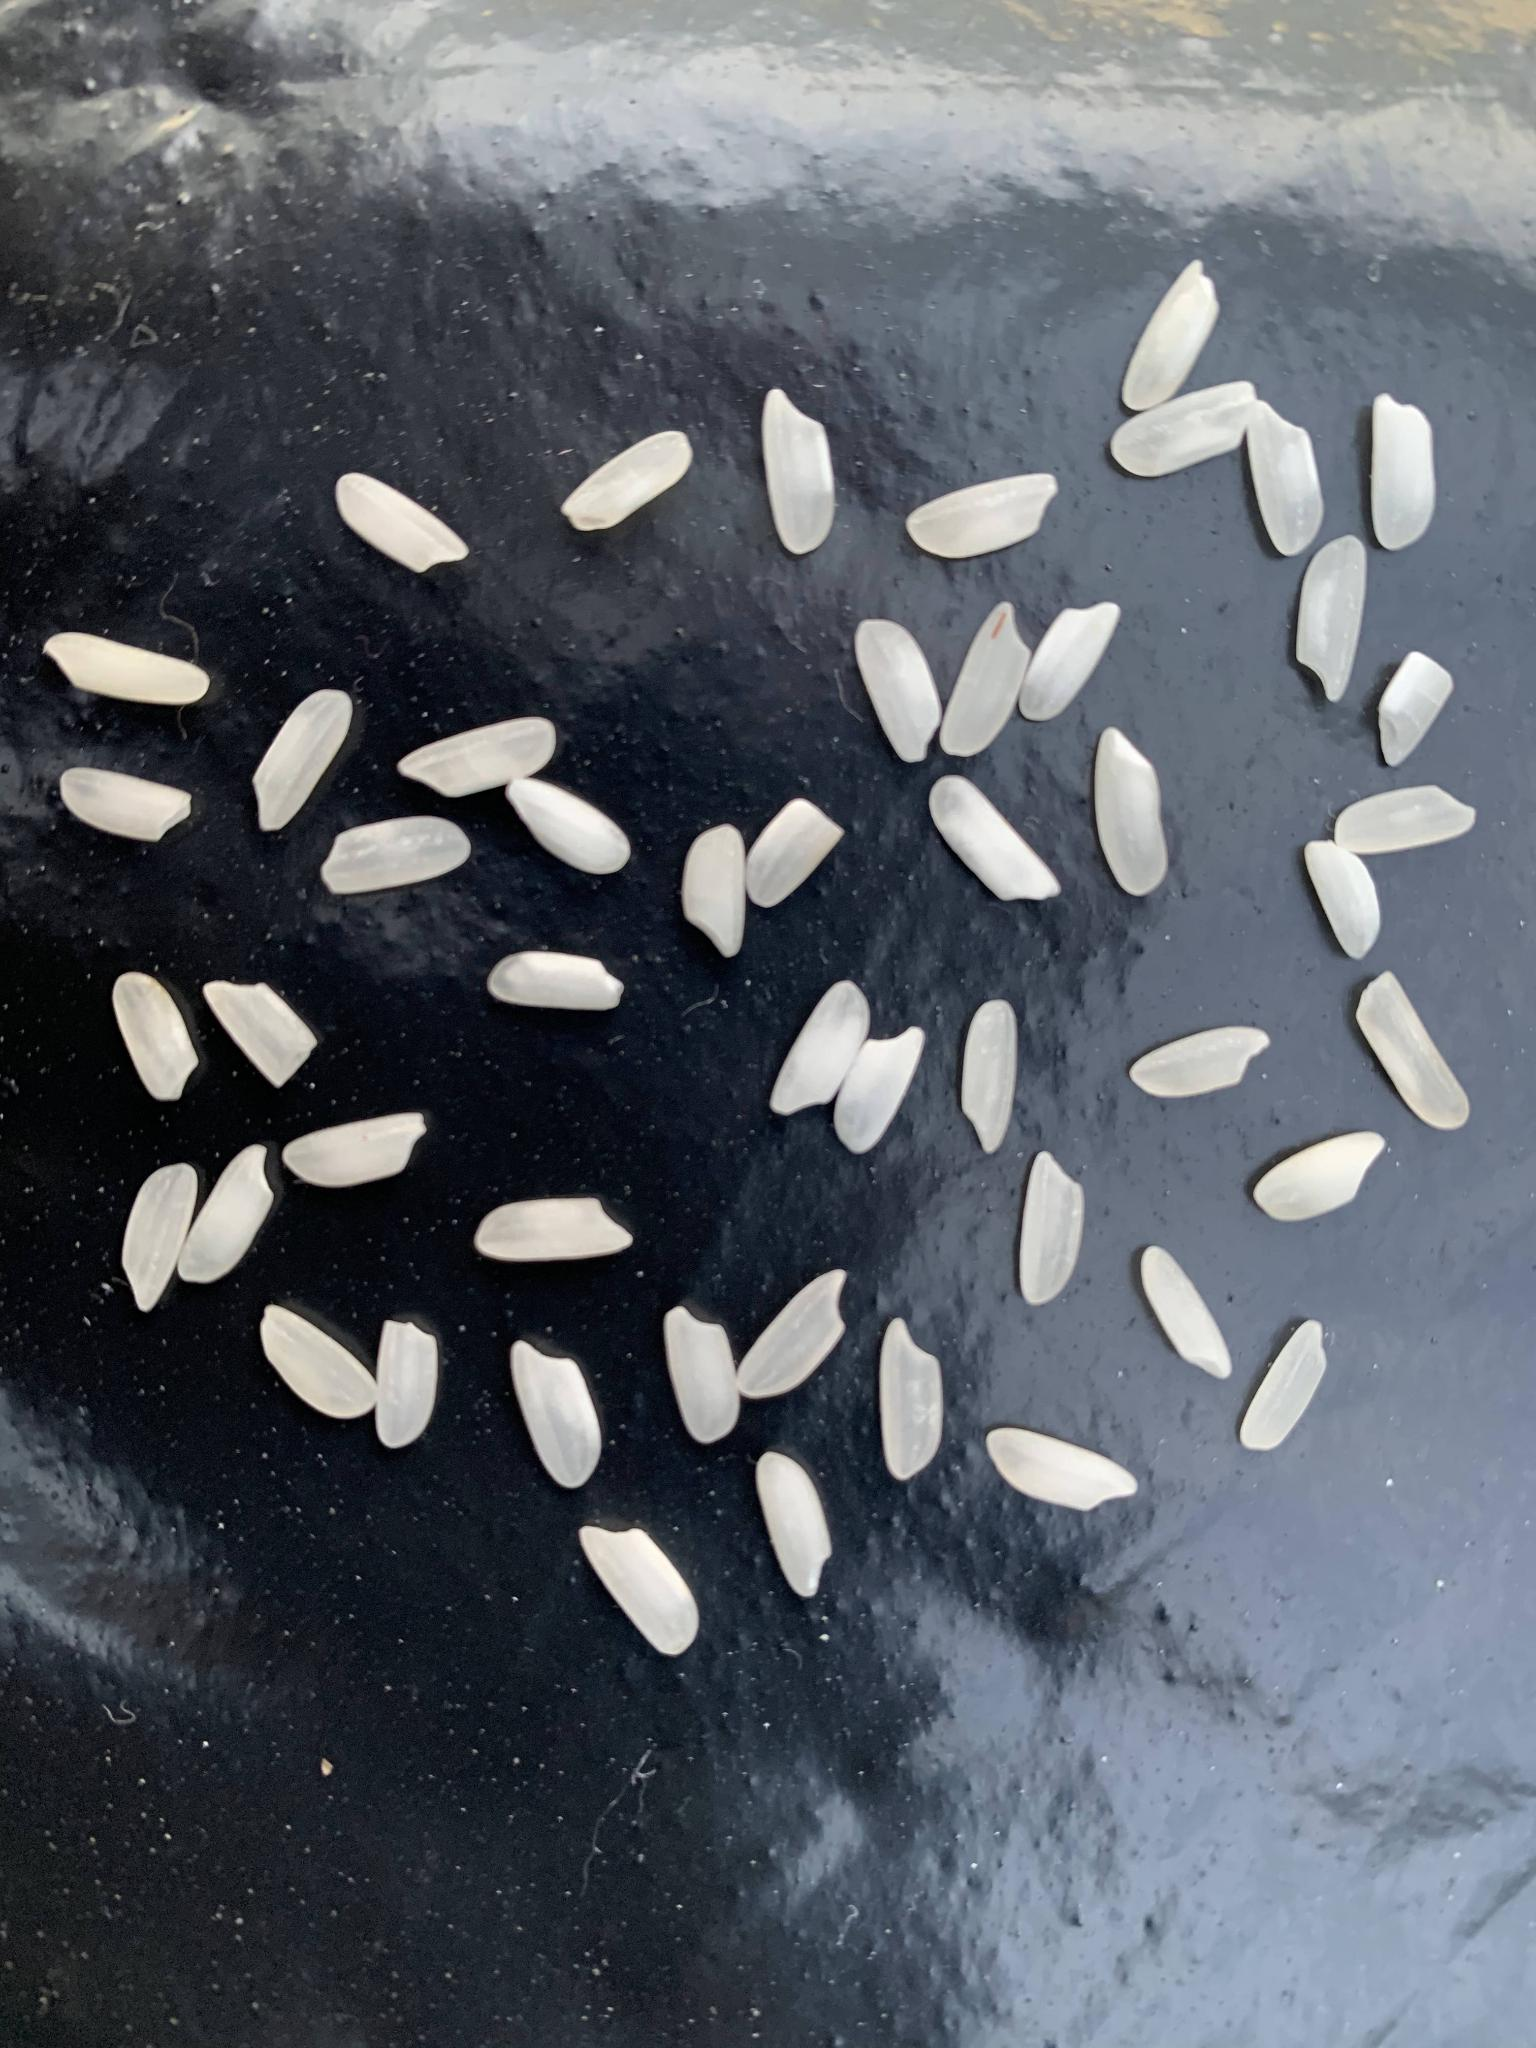rice: (1354, 969, 1471, 1130), (929, 776, 1062, 905), (578, 1526, 700, 1656), (1121, 258, 1221, 411), (250, 687, 353, 834), (737, 1266, 849, 1400), (1108, 379, 1254, 481), (941, 601, 1034, 756), (508, 1338, 603, 1488), (337, 471, 473, 574), (768, 980, 870, 1116), (904, 472, 1058, 561), (560, 431, 694, 532), (984, 1426, 1137, 1514), (395, 716, 558, 798), (261, 1306, 378, 1421), (179, 1143, 273, 1285), (1246, 397, 1326, 558), (1092, 727, 1168, 898), (1141, 1243, 1234, 1380), (45, 631, 210, 708), (854, 619, 942, 763), (319, 816, 473, 897), (1254, 1130, 1388, 1222), (762, 387, 834, 556), (834, 1026, 928, 1156), (203, 980, 316, 1089), (507, 779, 631, 876), (1018, 601, 1118, 719), (1239, 1317, 1328, 1450), (753, 1451, 833, 1600), (1299, 535, 1368, 701), (744, 797, 845, 910), (282, 1111, 428, 1188), (1368, 393, 1438, 552), (1016, 1150, 1086, 1306), (113, 972, 197, 1101), (123, 1164, 195, 1313), (1128, 1026, 1271, 1100), (663, 1306, 741, 1443), (879, 1317, 944, 1480), (473, 1198, 636, 1263), (60, 768, 194, 843), (1333, 784, 1475, 855), (1304, 840, 1381, 959), (681, 822, 745, 963), (958, 1000, 1016, 1155), (1378, 651, 1454, 768), (378, 1317, 440, 1450), (487, 951, 623, 1009)
